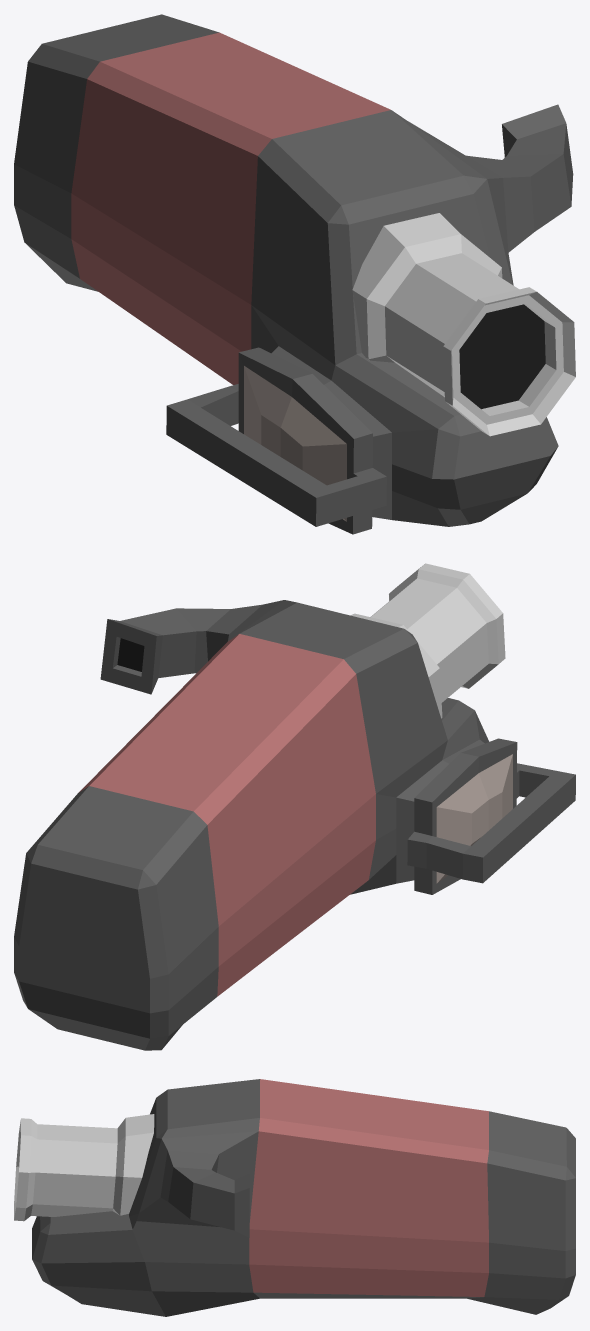
File: F26_Camcorder.fbx
The picture shows the model from 3 angles, top to bottom: view 1: azimuth 30°, elevation 25°; view 2: azimuth 150°, elevation 25°; view 3: azimuth 270°, elevation 25°; orthographic projection. The views are drawn at different scales.
Visible parts, largest first — view 1: camcorder; view 2: camcorder; view 3: camcorder.
Part boxes in pixels (box(x1,y1,x2,y2)): camcorder: box(14, 14, 575, 534); camcorder: box(14, 563, 575, 1050); camcorder: box(14, 1079, 575, 1316).
Size of the model in its own units: 2.37 by 1.63 by 4.13.
